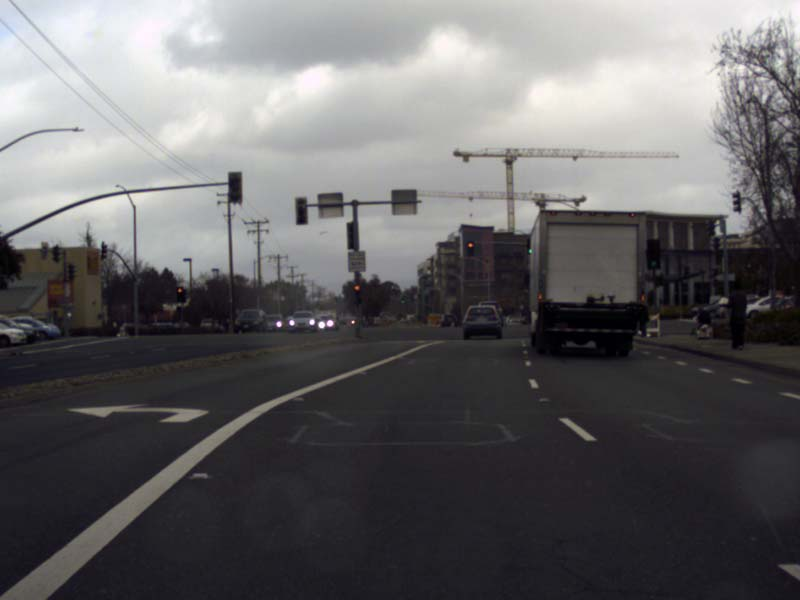Green: (646, 238, 660, 269), (526, 238, 535, 254), (401, 297, 404, 304), (427, 307, 430, 312), (436, 308, 439, 313)
Red: (176, 286, 183, 302), (467, 241, 473, 256), (353, 285, 359, 297)
